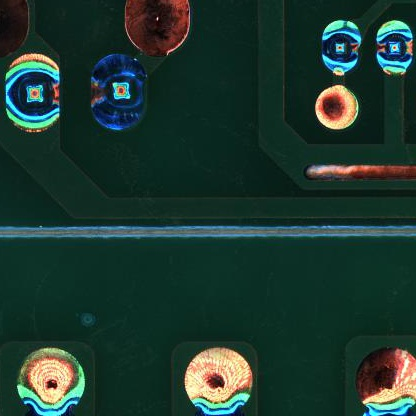spot: (89, 54, 146, 132), (5, 53, 60, 132), (318, 20, 360, 77), (376, 20, 414, 78)
